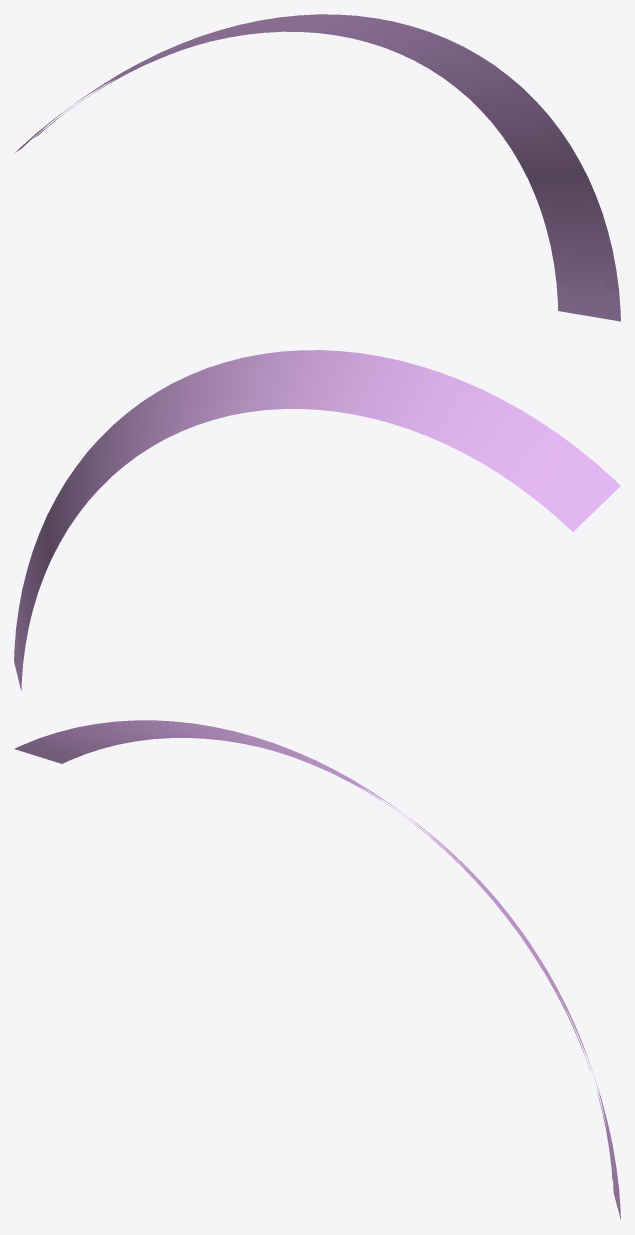
The model's file is Mesh_Note_21.fbx.
The picture shows the model from 3 angles, top to bottom: view 1: azimuth 30°, elevation 25°; view 2: azimuth 150°, elevation 25°; view 3: azimuth 330°, elevation 25°; orthographic projection.
Visible parts, largest first — view 1: Mesh_Note_21; view 2: Mesh_Note_21; view 3: Mesh_Note_21.
Boxes of the visible parts, x1=… form: Mesh_Note_21: x1=15, y1=14, x2=620, y2=321; Mesh_Note_21: x1=14, y1=350, x2=620, y2=690; Mesh_Note_21: x1=14, y1=720, x2=620, y2=1219.
Size of the model in its own units: 2.79 by 1.74 by 0.2235.
